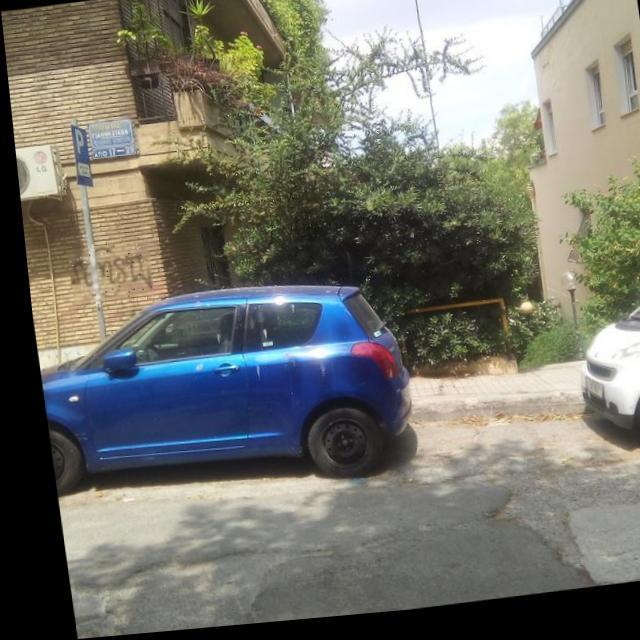-: (61, 242, 149, 306)
